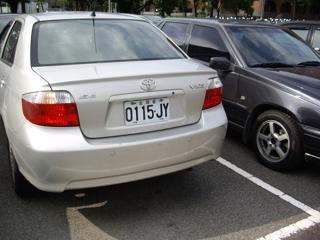plate: (121, 99, 172, 123)
